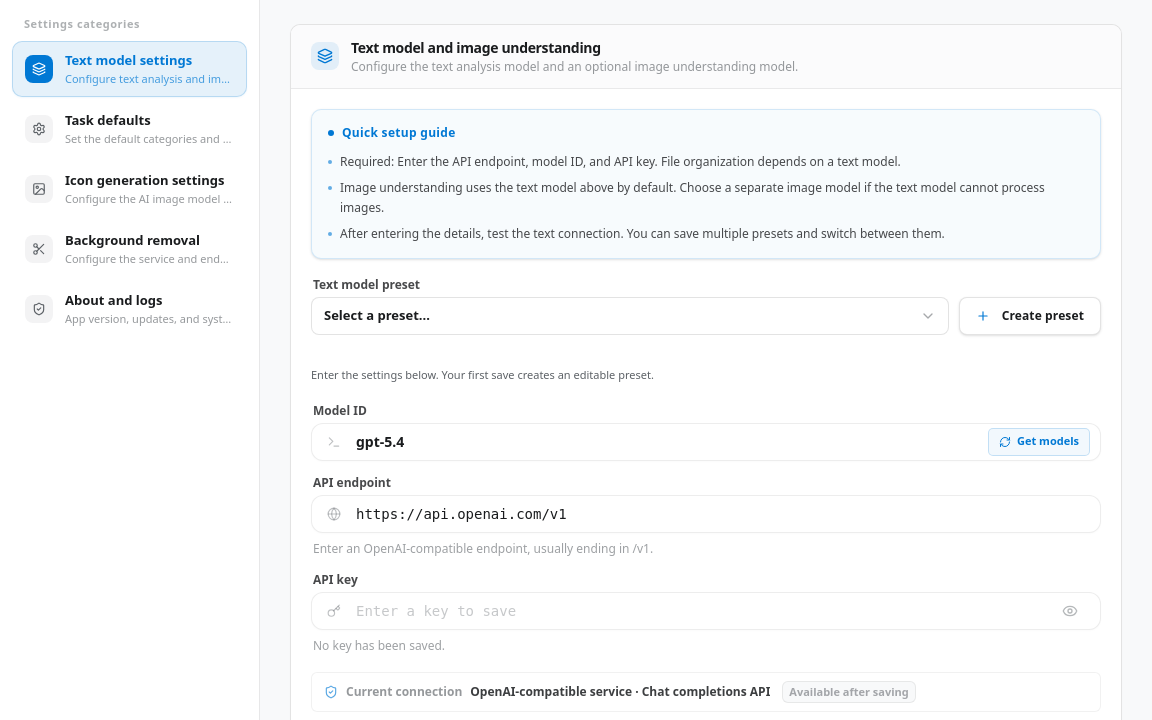
Test case: SettingsPage preset flow › localizes unsaved changes, affected categories, and discard behavior
expect the text "Settings categories" is shown: met, box [24,16,140,31]
Type "gpt-5.4-mini" into the field showing "gpt-5.4" at (667,442), box [356,424,978,460]
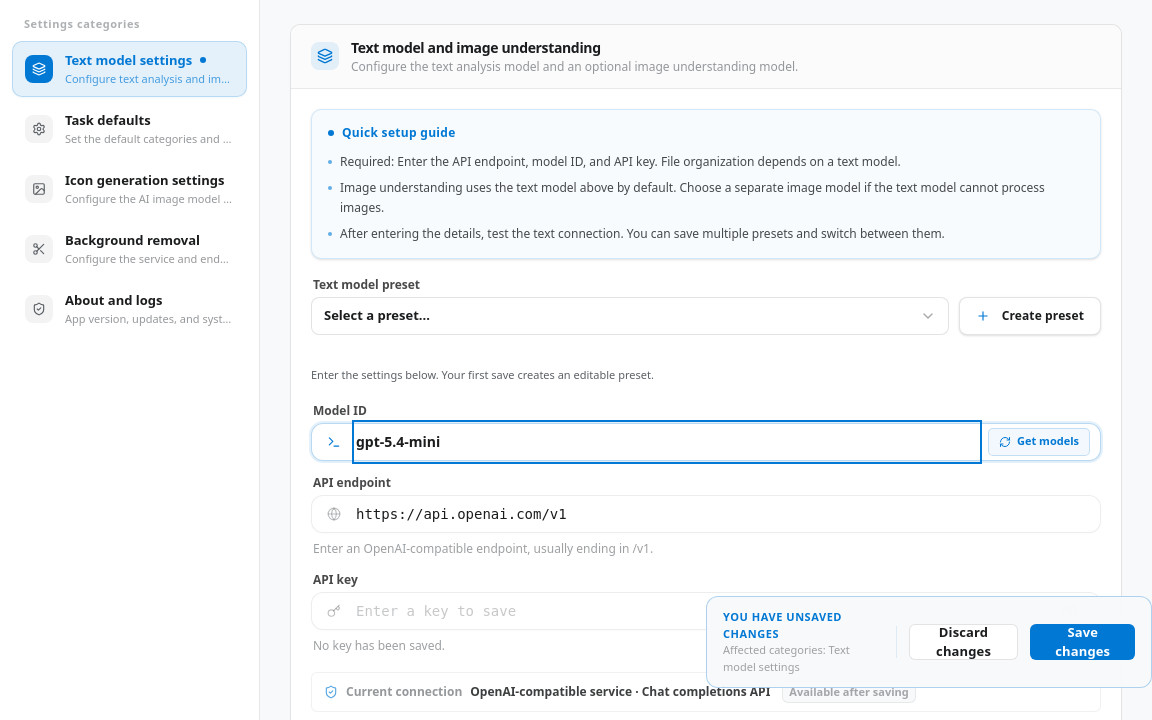
expect the text "You have unsaved changes" is shown: met, box [723,609,842,640]
expect the text "Affected categories: Text model settings" is shown: met, box [723,642,868,675]
Click the button "Discard changes" at (964,642), box [909,624,1018,660]
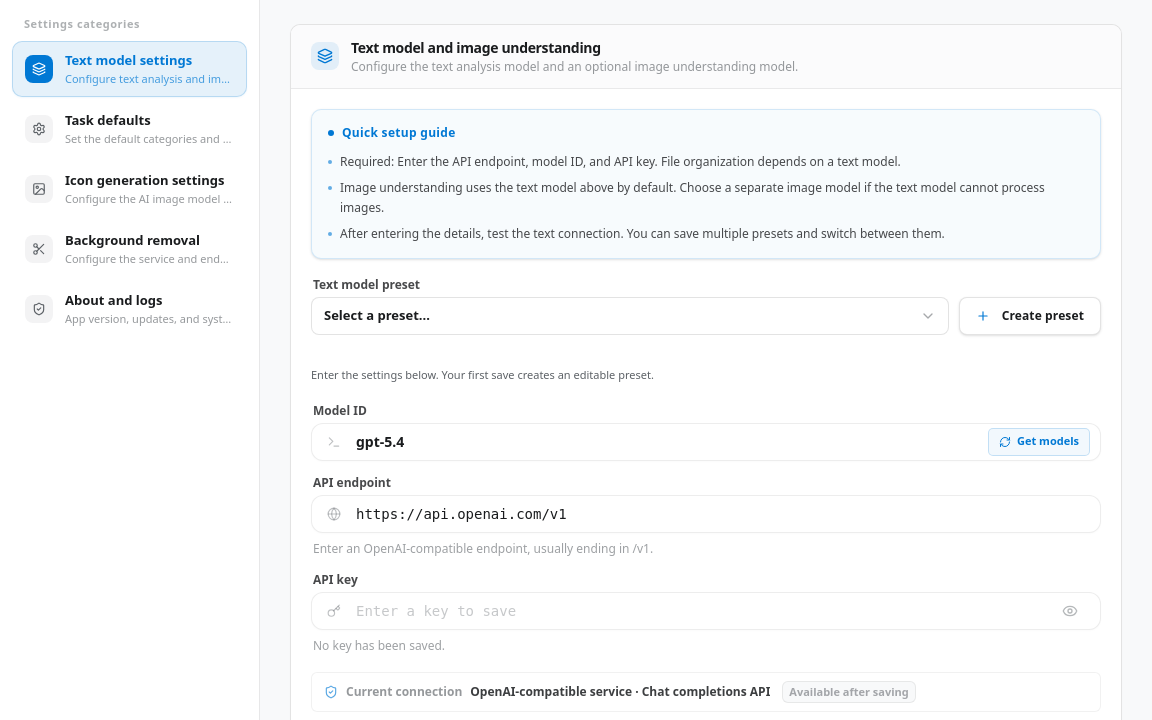
expect the field showing "gpt-5.4" is shown: met, box [356,424,978,460]
expect the text "You have unsaved changes" is gone: met
